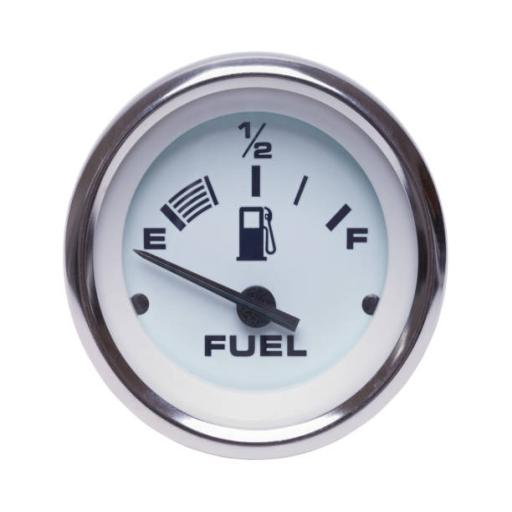empty: (143, 222, 171, 250)
fuel_icon: (236, 203, 287, 267)
full: (344, 224, 376, 260)
guage_area: (61, 47, 457, 459)
needle_center: (229, 280, 302, 332)
needle_tip: (130, 245, 142, 259)
